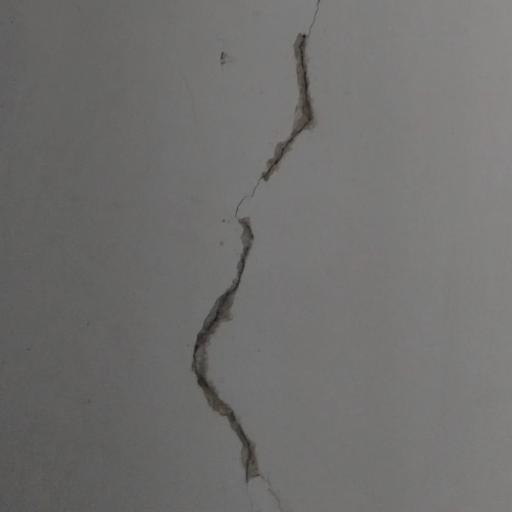major_crack: (174, 0, 325, 512)
